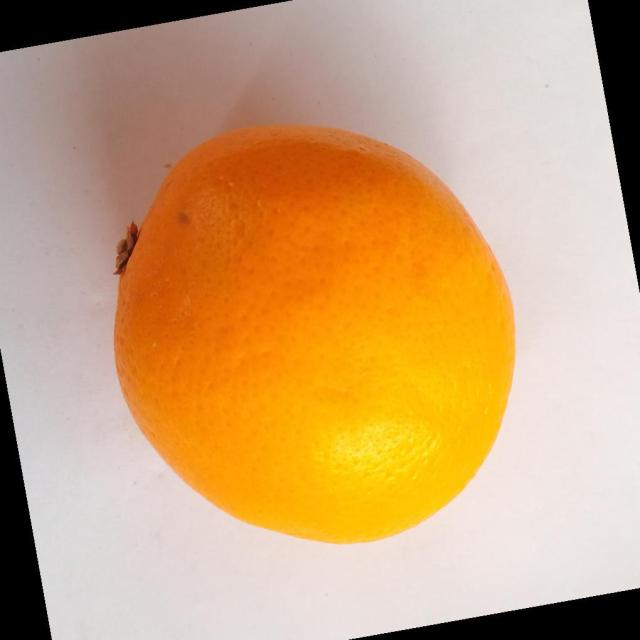fresh orange: (112, 121, 517, 544)
